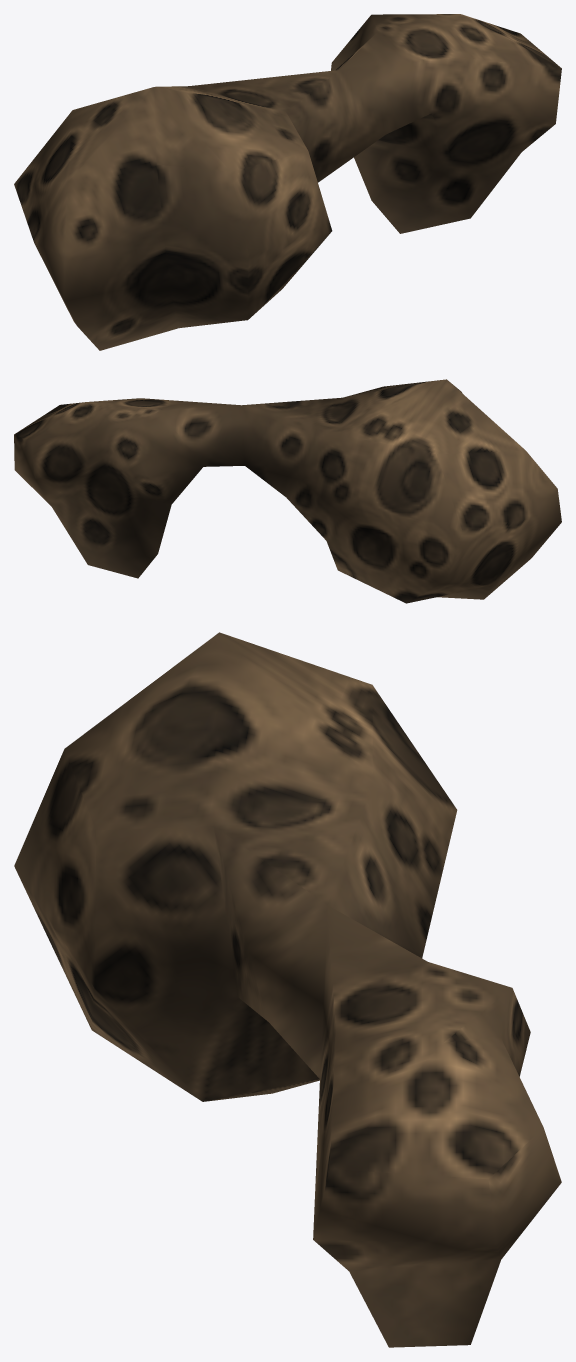
Rendered from Asteroid_02.FBX.
The picture shows the model from 3 angles, top to bottom: view 1: azimuth 30°, elevation 25°; view 2: azimuth 150°, elevation 25°; view 3: azimuth 270°, elevation 25°; orthographic projection. The views are drawn at different scales.
Visible parts, largest first — view 1: Asteroid_02; view 2: Asteroid_02; view 3: Asteroid_02.
Boxes of the visible parts, x1,y1,x2,y2 form: Asteroid_02: [14, 14, 561, 350]; Asteroid_02: [14, 379, 561, 603]; Asteroid_02: [14, 632, 561, 1347].
Bounding box in the file's own units: 169 × 87.34 × 77.96.
